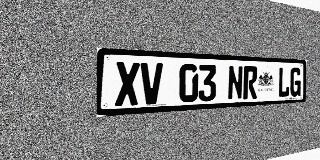0: (179, 64, 198, 103)
3: (198, 64, 216, 102)
G: (290, 67, 301, 97)
L: (278, 67, 290, 97)
N: (227, 65, 243, 100)
R: (243, 66, 258, 99)
V: (140, 62, 163, 105)
X: (115, 62, 140, 106)
